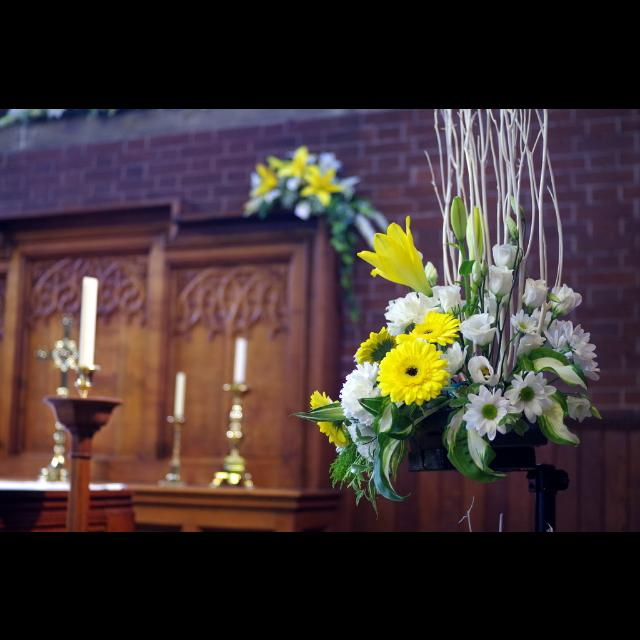Flower: (336, 290, 464, 460), (244, 142, 366, 222), (507, 276, 598, 378), (357, 216, 429, 294), (462, 382, 518, 440), (504, 367, 556, 427), (310, 390, 348, 448), (462, 313, 498, 347), (471, 354, 503, 386), (448, 198, 470, 242), (466, 204, 482, 264), (564, 393, 596, 423), (490, 264, 514, 300), (494, 243, 520, 269)
